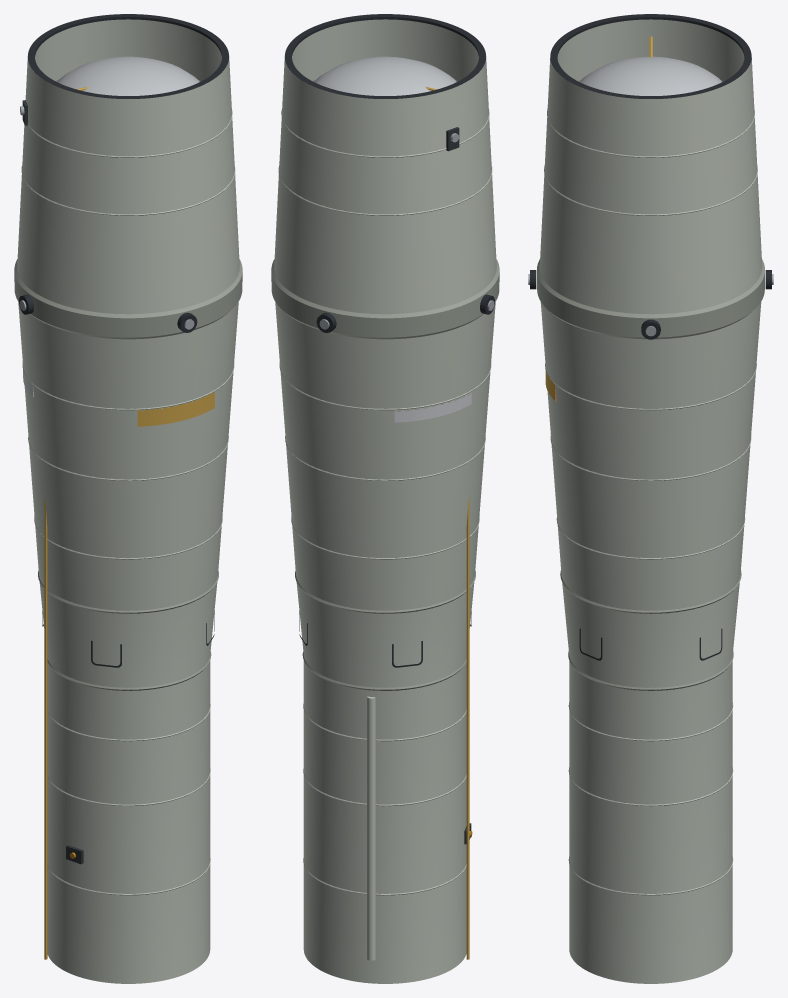
Rendered from soyuz_block_a.glb.
3 views of the same model, side by side, from view 1: azimuth 30°, elevation 25°; view 2: azimuth 150°, elevation 25°; view 3: azimuth 270°, elevation 25° (orthographic).
Visible parts, largest first — view 1: shell, frames, inner, detail, slot_pressurisation__autogenous, slot_insulation__mli; view 2: shell, frames, detail, inner, slot_pressurisation__autogenous, slot_wall; view 3: shell, frames, inner, detail.
Boxes of the visible parts, x1,y1,x2,y2 form: shell: [17, 14, 239, 983]; frames: [14, 14, 242, 895]; inner: [57, 56, 199, 95]; detail: [20, 100, 218, 864]; slot_pressurisation__autogenous: [44, 86, 88, 959]; slot_insulation__mli: [137, 391, 214, 426]; shell: [274, 14, 496, 983]; frames: [271, 14, 499, 895]; detail: [295, 127, 475, 960]; inner: [314, 56, 456, 95]; slot_pressurisation__autogenous: [425, 86, 469, 959]; slot_wall: [394, 392, 471, 422]; shell: [539, 14, 762, 983]; frames: [528, 14, 773, 895]; inner: [580, 56, 721, 95]; detail: [560, 571, 741, 690].
Bounding box in the file's own units: 2.74 × 11 × 2.74.
Materials: 15 (2 with a texture image).
